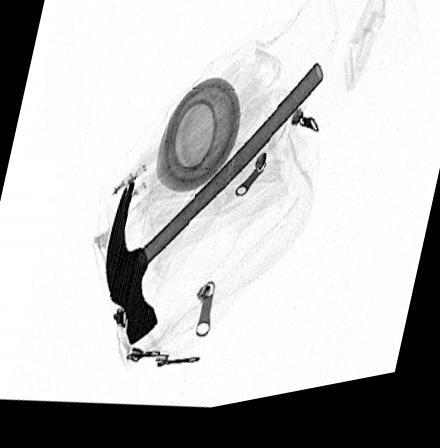Hammer: (105, 73, 324, 352)
